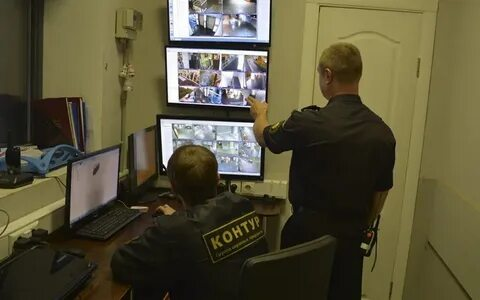awake: (109, 144, 270, 300), (279, 41, 397, 249)
